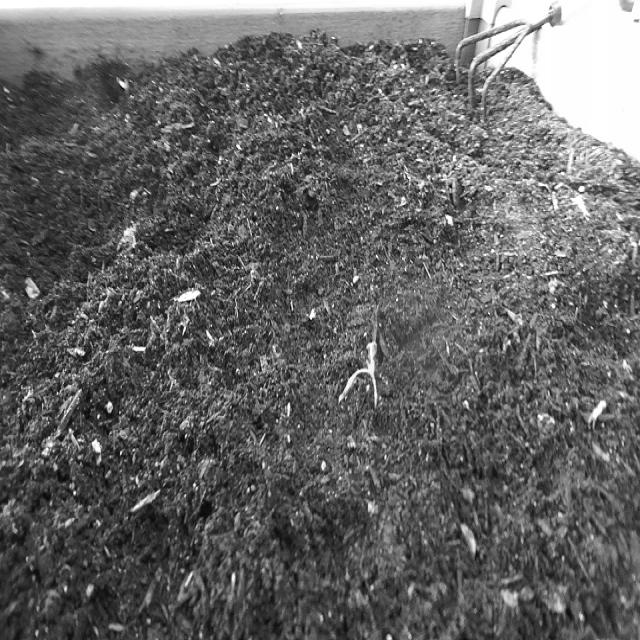Healthy: (334, 320, 392, 427)
